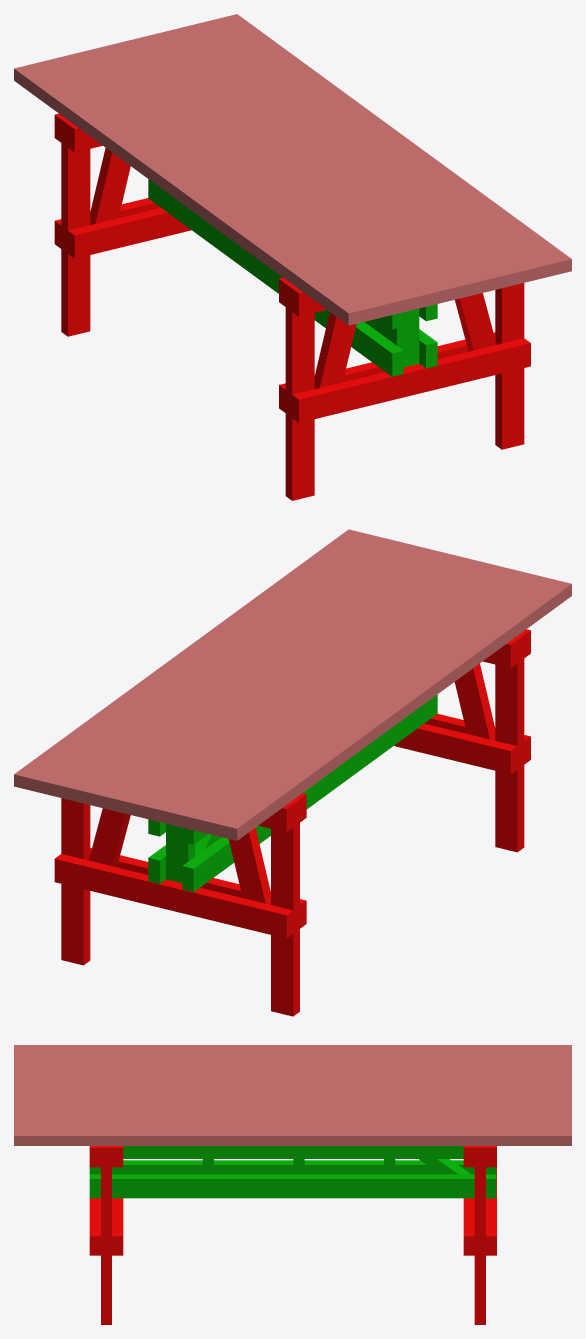
Rendered from result.glb.
3 renders of one model, top to bottom at view 1: azimuth 30°, elevation 25°; view 2: azimuth 150°, elevation 25°; view 3: azimuth 270°, elevation 25°, orthographic. The views are drawn at different scales.
Parts seen in each view (by area): view 1: a442bfee-3210-487a-94ca-04afa1f8e916__Box, 51e76124-603c-492d-a61e-29ec3b691b16__undefined, 338a2d94-ce92-4c99-b5c4-56b600be0dae__undefined, d45f513d-6071-4d80-87f9-bf6aad6772da__undefined, dfea3246-e7a4-4874-85c7-1db79630e5e5__undefined, 6d3644a0-f5cc-4b2b-97d2-43320d9b200b__undefined, 649dfae0-1520-421b-ab5d-3ca45bbc6d5e__undefined, c660ea6b-8dc1-4e08-b542-18bf8a80df61__undefined, cc7e2fb5-ed8d-45ed-ac29-395d446f1f2e__undefined, 25e7e636-45bf-417a-9ab8-25e262d93465__undefined, ec826e48-02bf-4d64-be88-f0fa131ed040__sideH, 81d7b02d-8333-45cb-82f7-c40216f5aa47__sideV (+11 smaller); view 2: a442bfee-3210-487a-94ca-04afa1f8e916__Box, cc7e2fb5-ed8d-45ed-ac29-395d446f1f2e__undefined, 338a2d94-ce92-4c99-b5c4-56b600be0dae__undefined, c660ea6b-8dc1-4e08-b542-18bf8a80df61__undefined, 6d3644a0-f5cc-4b2b-97d2-43320d9b200b__undefined, dfea3246-e7a4-4874-85c7-1db79630e5e5__undefined, 51e76124-603c-492d-a61e-29ec3b691b16__undefined, 649dfae0-1520-421b-ab5d-3ca45bbc6d5e__undefined, d45f513d-6071-4d80-87f9-bf6aad6772da__undefined, 25e7e636-45bf-417a-9ab8-25e262d93465__undefined, be0f1309-aa19-43bd-833f-215c2393ef9e__undefined, 81d7b02d-8333-45cb-82f7-c40216f5aa47__sideV (+11 smaller); view 3: 25e7e636-45bf-417a-9ab8-25e262d93465__undefined, 3fde2c06-396d-43a2-9e08-ad112d2f76c2__strutH, a442bfee-3210-487a-94ca-04afa1f8e916__Box, 51e76124-603c-492d-a61e-29ec3b691b16__undefined, cc7e2fb5-ed8d-45ed-ac29-395d446f1f2e__undefined, 6d3644a0-f5cc-4b2b-97d2-43320d9b200b__undefined, 338a2d94-ce92-4c99-b5c4-56b600be0dae__undefined, 649dfae0-1520-421b-ab5d-3ca45bbc6d5e__undefined, c660ea6b-8dc1-4e08-b542-18bf8a80df61__undefined, d45f513d-6071-4d80-87f9-bf6aad6772da__undefined, dfea3246-e7a4-4874-85c7-1db79630e5e5__undefined, 0181f79d-8206-45be-821f-57a5a0cc759f__strutH (+8 smaller).
Part boxes in pixels (left/top/right/bottom): a442bfee-3210-487a-94ca-04afa1f8e916__Box: left=14, top=63, right=370, bottom=325; 51e76124-603c-492d-a61e-29ec3b691b16__undefined: left=36, top=57, right=393, bottom=319; 338a2d94-ce92-4c99-b5c4-56b600be0dae__undefined: left=103, top=41, right=460, bottom=303; d45f513d-6071-4d80-87f9-bf6aad6772da__undefined: left=170, top=25, right=527, bottom=287; dfea3246-e7a4-4874-85c7-1db79630e5e5__undefined: left=193, top=19, right=549, bottom=281; 6d3644a0-f5cc-4b2b-97d2-43320d9b200b__undefined: left=81, top=47, right=437, bottom=308; 649dfae0-1520-421b-ab5d-3ca45bbc6d5e__undefined: left=126, top=36, right=482, bottom=298; c660ea6b-8dc1-4e08-b542-18bf8a80df61__undefined: left=148, top=30, right=504, bottom=292; cc7e2fb5-ed8d-45ed-ac29-395d446f1f2e__undefined: left=59, top=52, right=415, bottom=314; 25e7e636-45bf-417a-9ab8-25e262d93465__undefined: left=215, top=14, right=571, bottom=276; ec826e48-02bf-4d64-be88-f0fa131ed040__sideH: left=292, top=338, right=530, bottom=422; 81d7b02d-8333-45cb-82f7-c40216f5aa47__sideV: left=285, top=282, right=314, bottom=500; a442bfee-3210-487a-94ca-04afa1f8e916__Box: left=215, top=578, right=571, bottom=840; cc7e2fb5-ed8d-45ed-ac29-395d446f1f2e__undefined: left=170, top=567, right=526, bottom=829; 338a2d94-ce92-4c99-b5c4-56b600be0dae__undefined: left=125, top=556, right=482, bottom=818; c660ea6b-8dc1-4e08-b542-18bf8a80df61__undefined: left=81, top=546, right=437, bottom=807; 6d3644a0-f5cc-4b2b-97d2-43320d9b200b__undefined: left=148, top=562, right=504, bottom=824; dfea3246-e7a4-4874-85c7-1db79630e5e5__undefined: left=36, top=535, right=392, bottom=797; 51e76124-603c-492d-a61e-29ec3b691b16__undefined: left=192, top=573, right=549, bottom=835; 649dfae0-1520-421b-ab5d-3ca45bbc6d5e__undefined: left=103, top=551, right=459, bottom=813; d45f513d-6071-4d80-87f9-bf6aad6772da__undefined: left=58, top=540, right=415, bottom=802; 25e7e636-45bf-417a-9ab8-25e262d93465__undefined: left=14, top=529, right=370, bottom=791; be0f1309-aa19-43bd-833f-215c2393ef9e__undefined: left=54, top=854, right=293, bottom=938; 81d7b02d-8333-45cb-82f7-c40216f5aa47__sideV: left=495, top=634, right=524, bottom=852; 25e7e636-45bf-417a-9ab8-25e262d93465__undefined: left=14, top=1127, right=571, bottom=1145; 3fde2c06-396d-43a2-9e08-ad112d2f76c2__strutH: left=89, top=1174, right=496, bottom=1198; a442bfee-3210-487a-94ca-04afa1f8e916__Box: left=14, top=1045, right=571, bottom=1054; 51e76124-603c-492d-a61e-29ec3b691b16__undefined: left=14, top=1054, right=571, bottom=1063; cc7e2fb5-ed8d-45ed-ac29-395d446f1f2e__undefined: left=14, top=1063, right=571, bottom=1072; 6d3644a0-f5cc-4b2b-97d2-43320d9b200b__undefined: left=14, top=1072, right=571, bottom=1081; 338a2d94-ce92-4c99-b5c4-56b600be0dae__undefined: left=14, top=1081, right=571, bottom=1090; 649dfae0-1520-421b-ab5d-3ca45bbc6d5e__undefined: left=14, top=1090, right=571, bottom=1099; c660ea6b-8dc1-4e08-b542-18bf8a80df61__undefined: left=14, top=1099, right=571, bottom=1108; d45f513d-6071-4d80-87f9-bf6aad6772da__undefined: left=14, top=1108, right=571, bottom=1117; dfea3246-e7a4-4874-85c7-1db79630e5e5__undefined: left=14, top=1117, right=571, bottom=1126; 0181f79d-8206-45be-821f-57a5a0cc759f__strutH: left=89, top=1160, right=496, bottom=1174.
Bounding box in the file's own units: 800 × 740 × 2000.
